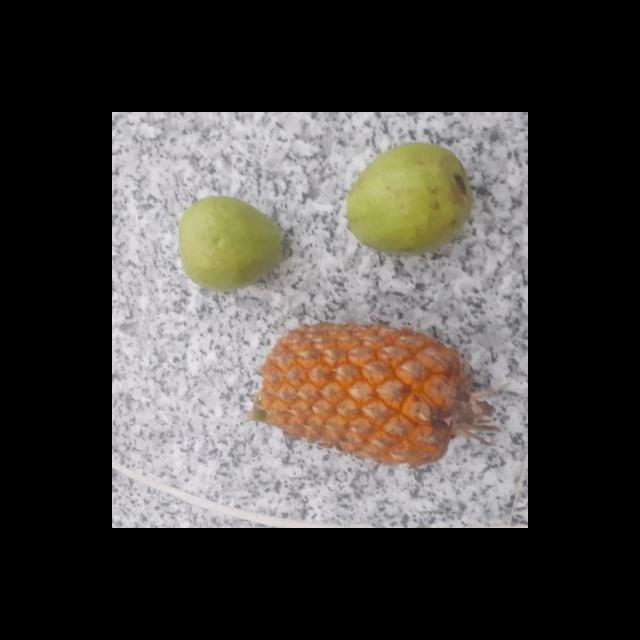guava: (347, 144, 476, 253), (178, 196, 294, 292)
pineapple: (247, 318, 484, 470)
